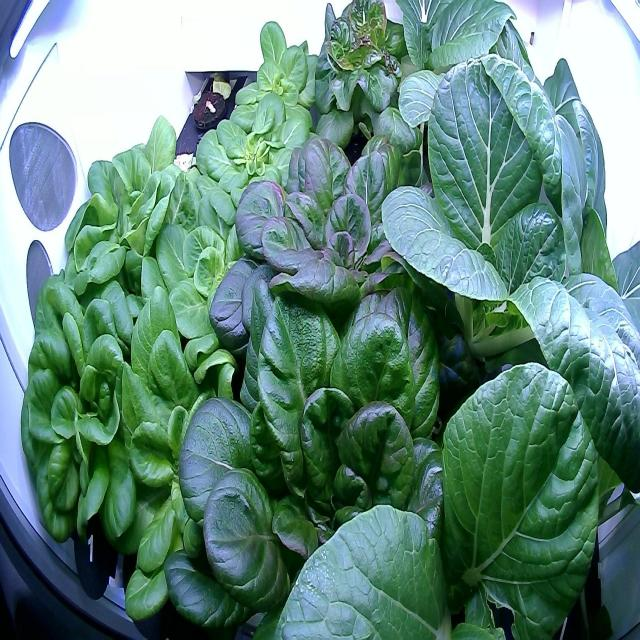Ready: (158, 252, 502, 640), (205, 80, 488, 420), (2, 265, 158, 551), (59, 113, 191, 301), (312, 0, 428, 171)
young: (118, 284, 307, 628), (150, 163, 294, 372), (184, 86, 324, 234), (229, 11, 330, 139)
